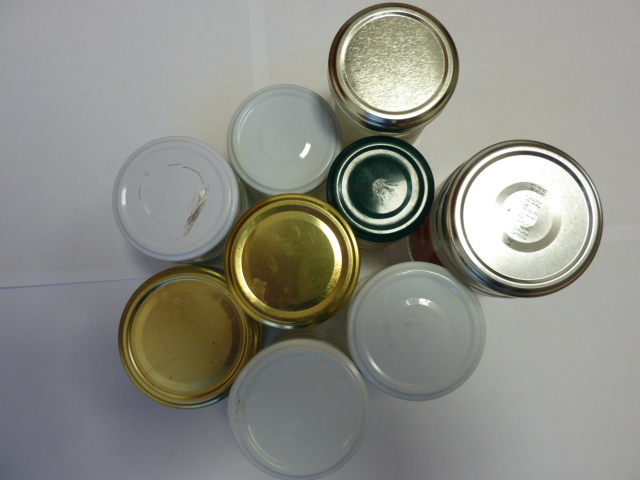intact: (227, 83, 340, 196)
